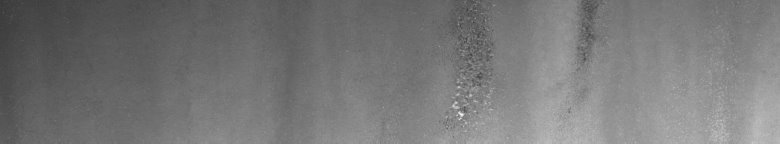hc: (446, 31, 488, 127)
